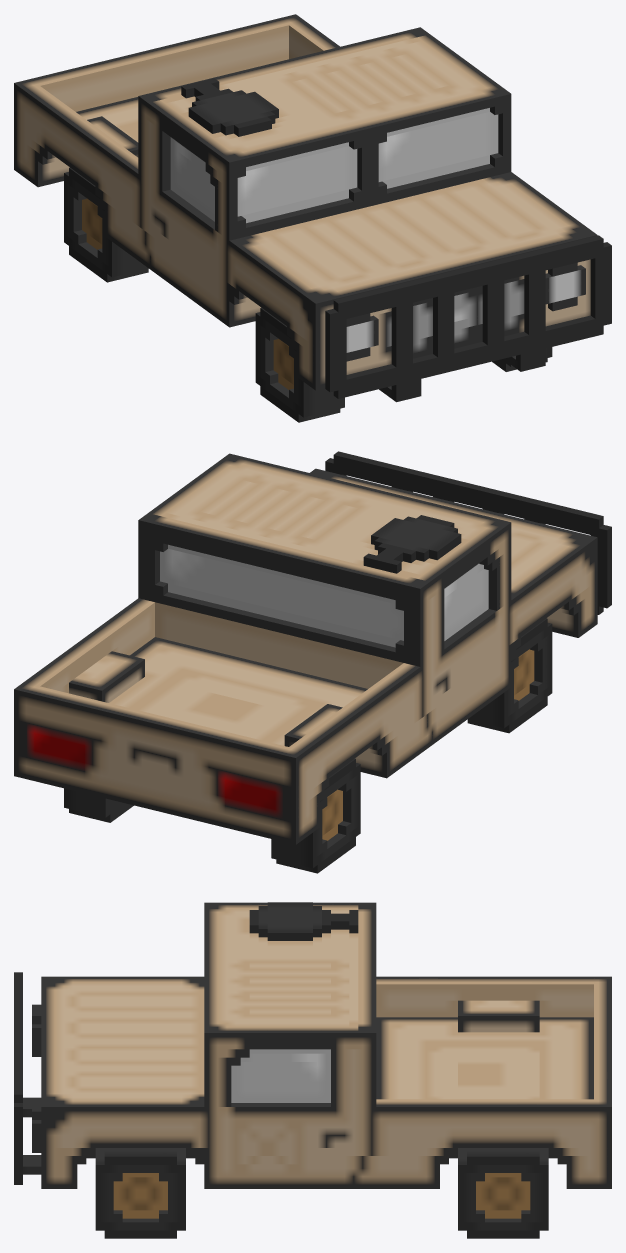
Rendered from Car_0.fbx.
3 renders of one model, top to bottom at view 1: azimuth 30°, elevation 25°; view 2: azimuth 150°, elevation 25°; view 3: azimuth 270°, elevation 25°, orthographic. The views are drawn at different scales.
Parts seen in each view (by area): view 1: Matrix; view 2: Matrix; view 3: Matrix.
Boxes of the visible parts, x1,y1,x2,y2 form: Matrix: (14, 14, 611, 422); Matrix: (14, 451, 611, 873); Matrix: (14, 902, 611, 1238).
Size of the model in its own units: 34 by 27 by 66.
